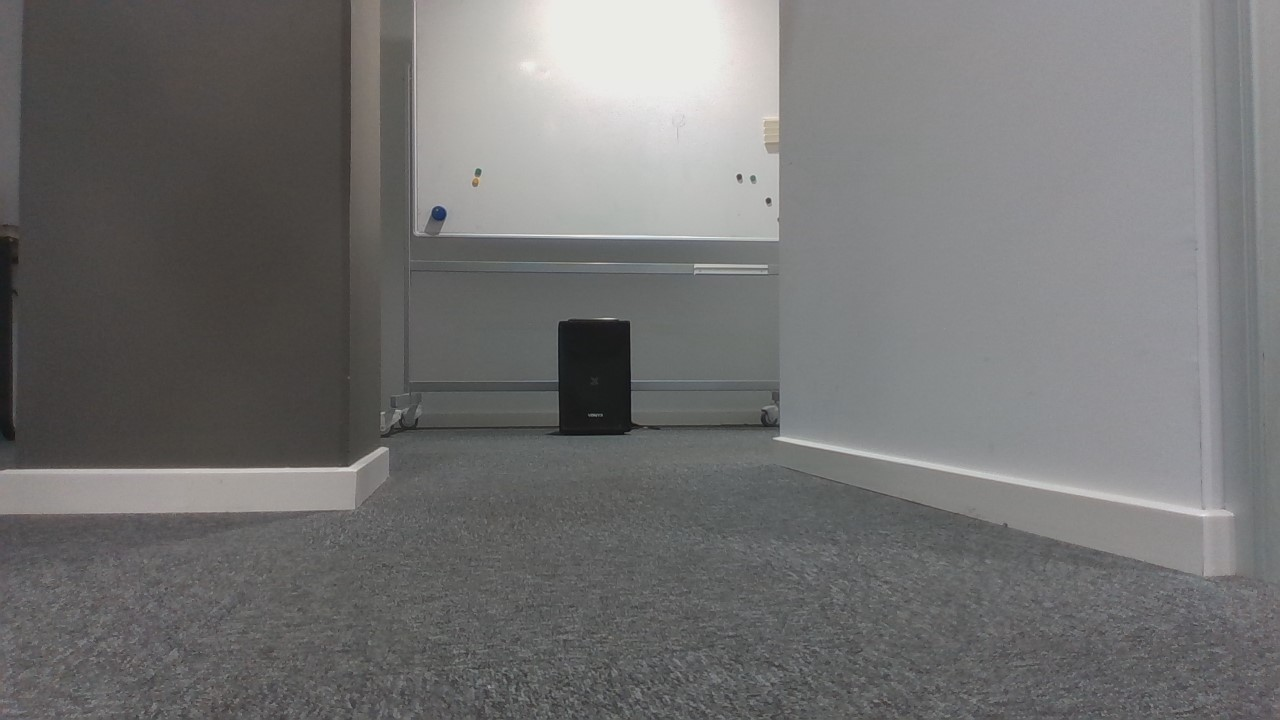alfa: (430, 203, 447, 223)
